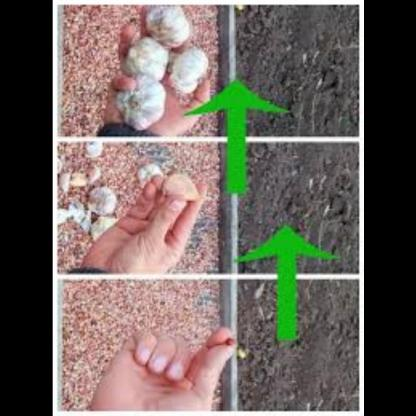garlic: (65, 156, 117, 241), (114, 73, 177, 131), (144, 0, 190, 58), (168, 51, 215, 105), (127, 43, 177, 90), (156, 171, 197, 212)
